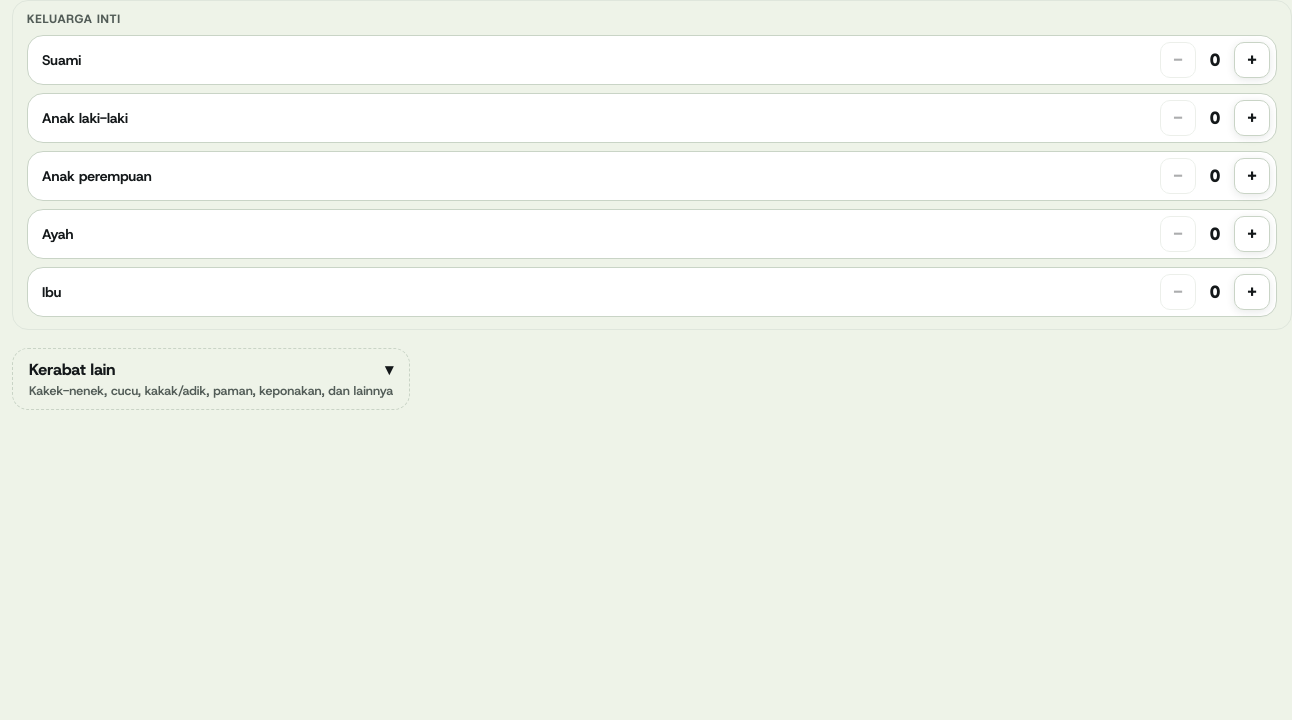
Test case: almarhum perempuan disebut almarhumah
What coordinates should you click on to do the following:
click the button "Kerabat lain"
I would click on:
 (211, 379)
Its box is [12,348,410,410].
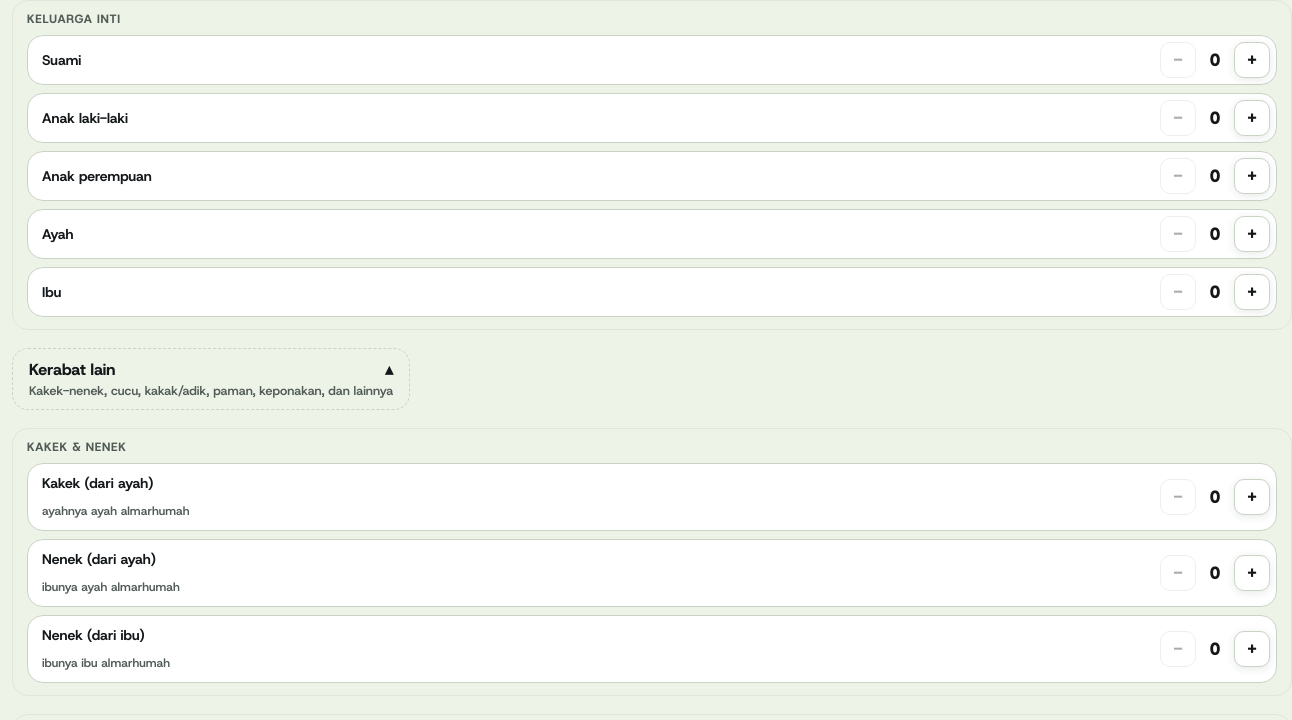
Now the text "ibunya ibu almarhumah" is shown, box [42,655,170,671]
